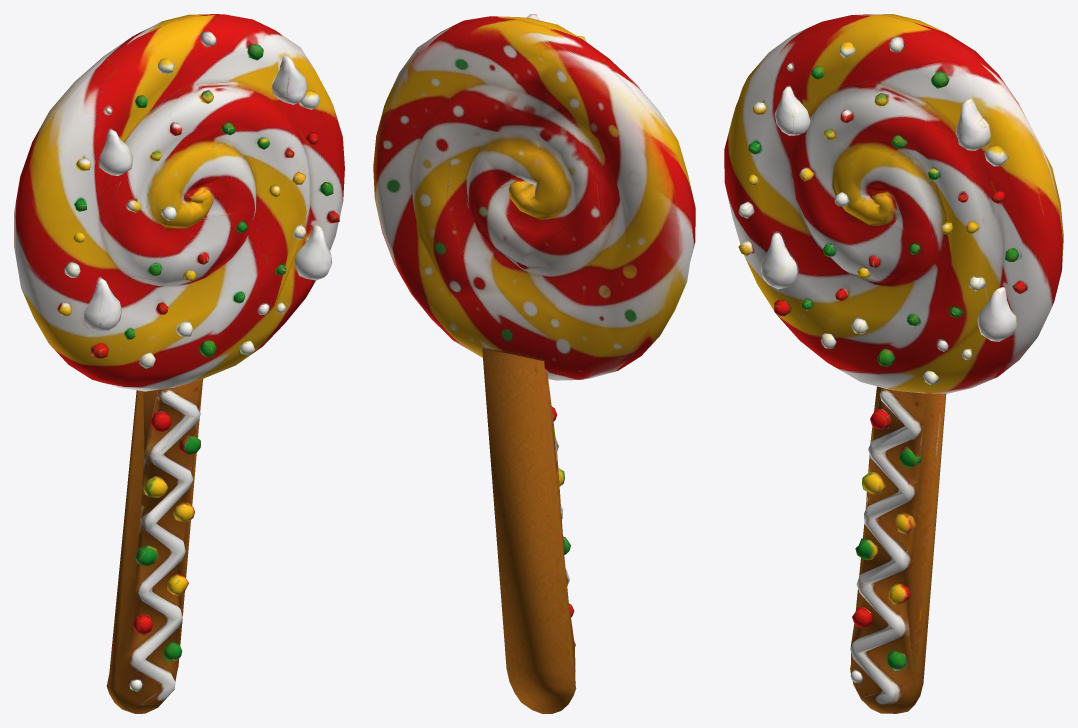
Rendered from lollipop.glb.
3 renders of one model, left to right at view 1: azimuth 30°, elevation 25°; view 2: azimuth 150°, elevation 25°; view 3: azimuth 330°, elevation 25°, orthographic. The views are drawn at different scales.
Bounding box in the file's own units: 0.4653 × 0.9502 × 0.101.
Materials: 1 (1 with a texture image).
